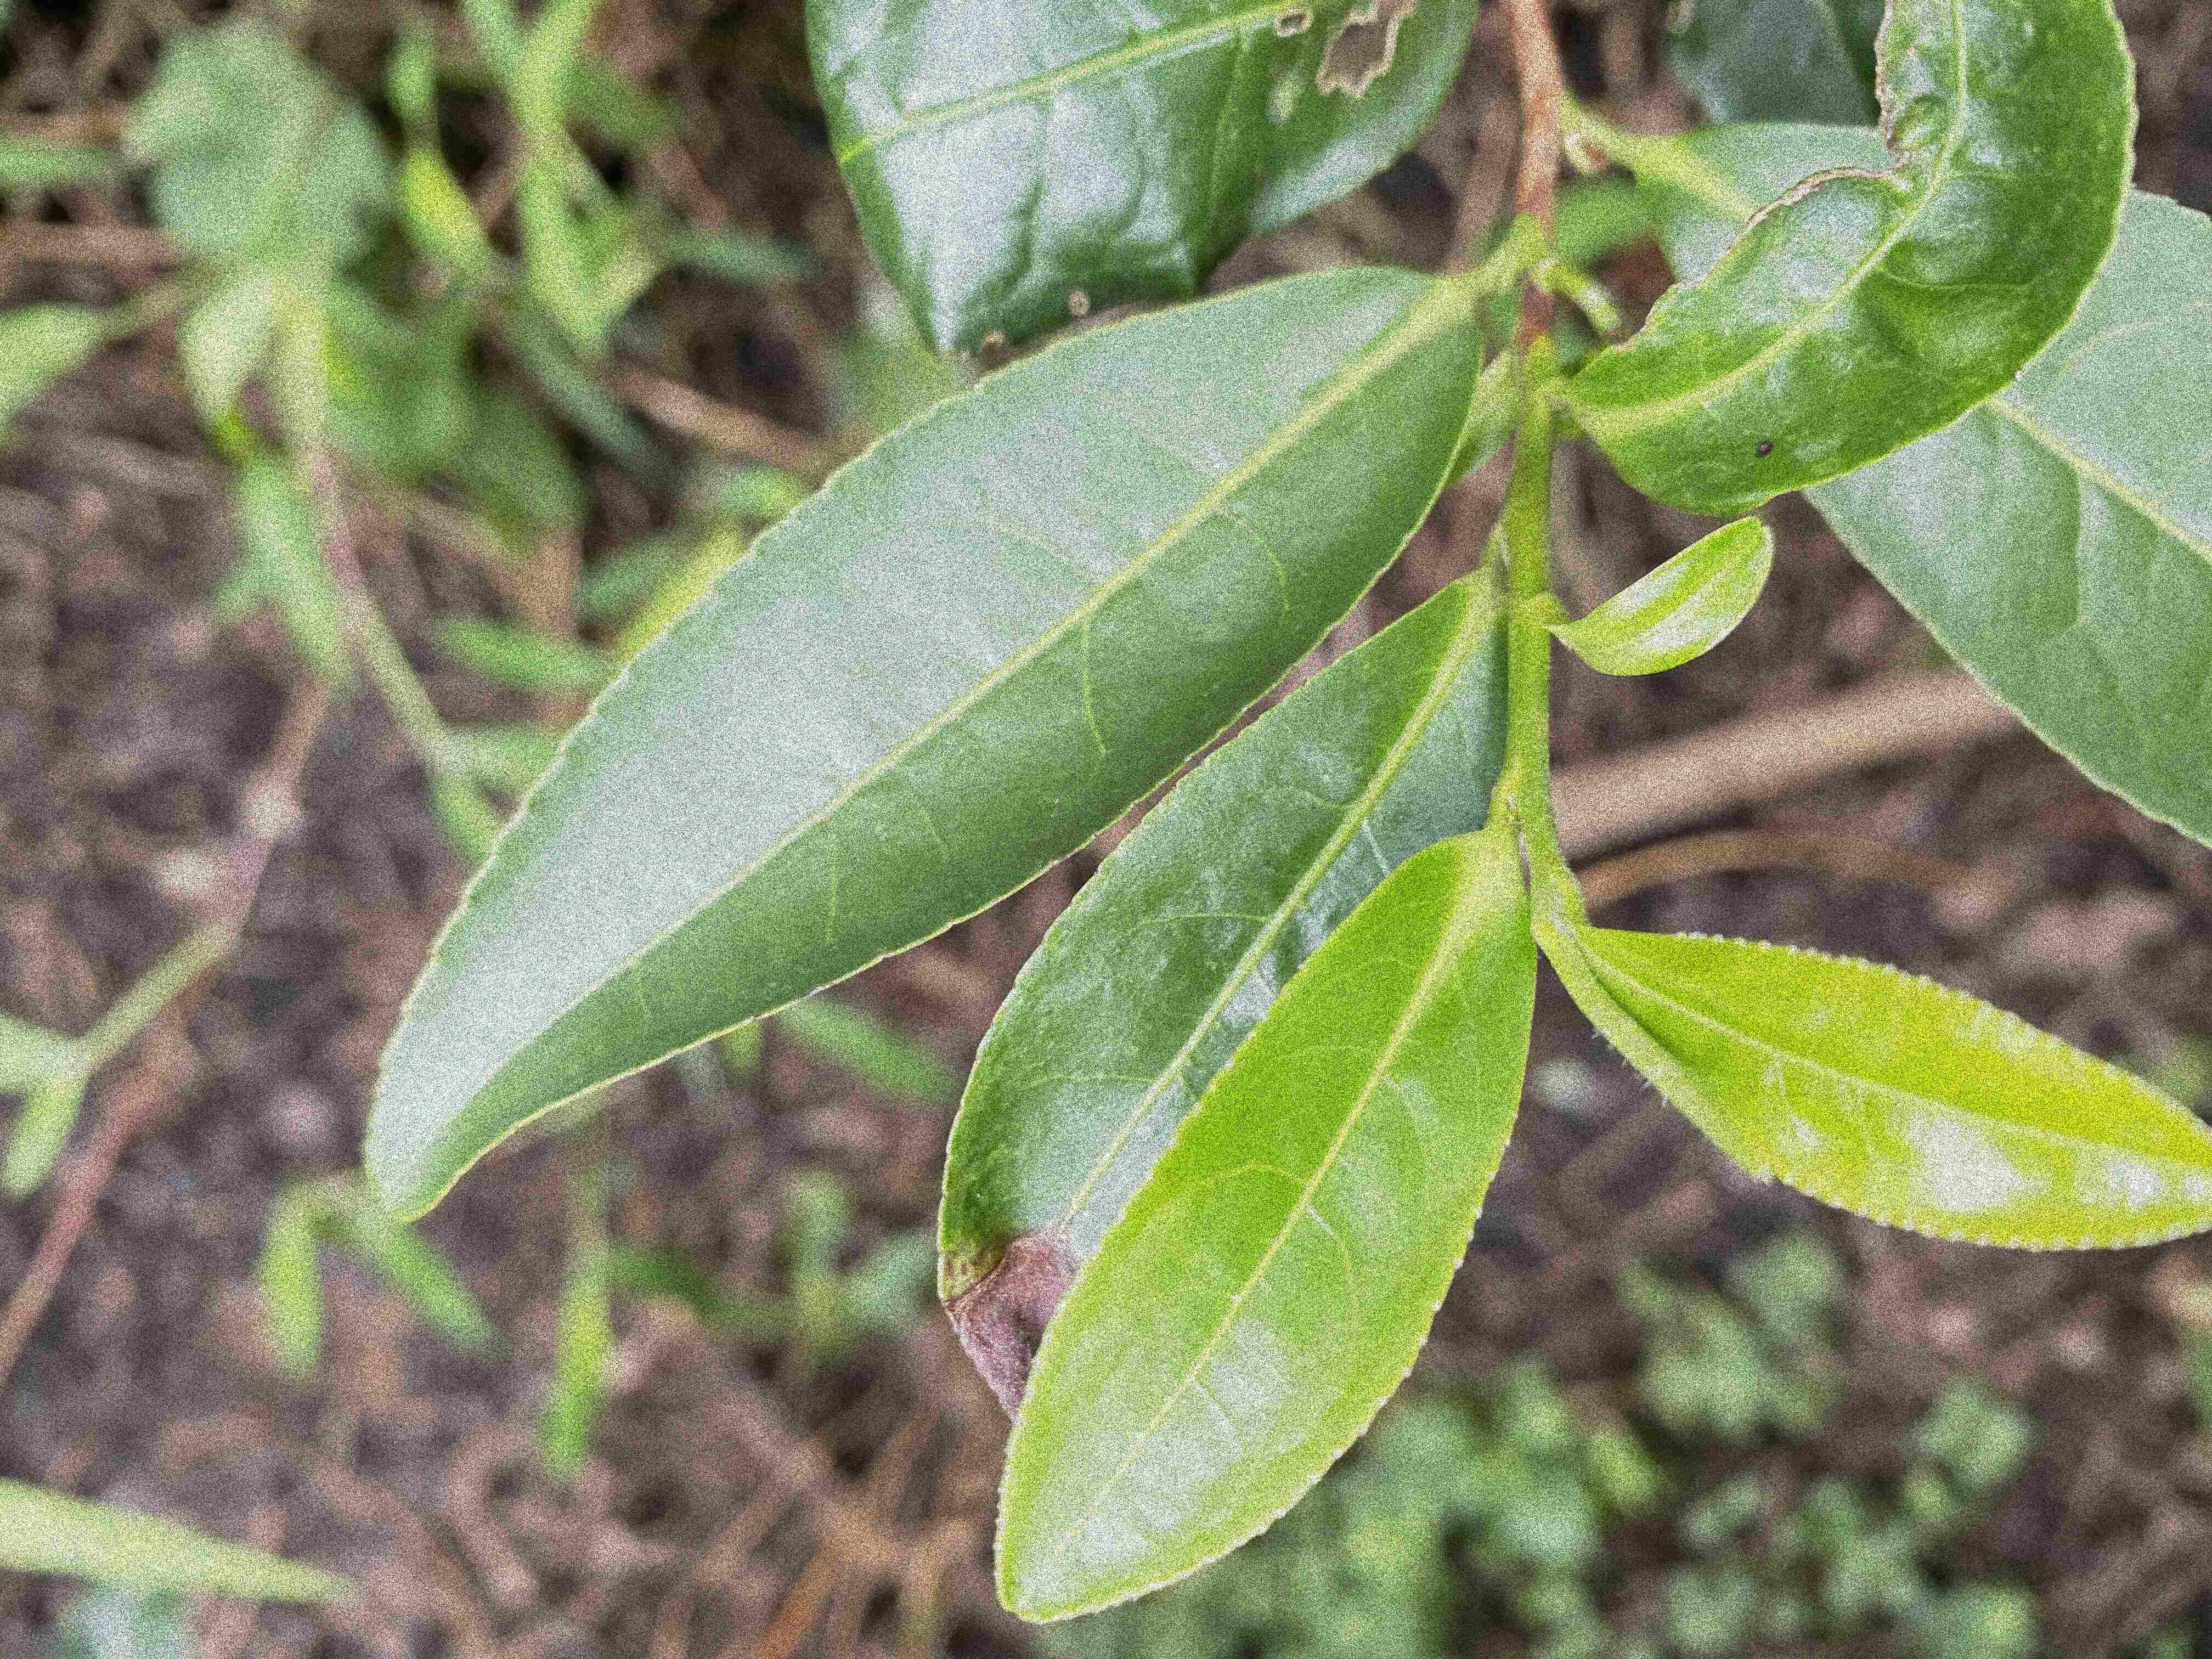chihuo_high: (1575, 5, 2142, 516), (794, 3, 1480, 361)
healthy: (362, 263, 1486, 1225), (995, 831, 1538, 1624), (1576, 920, 2210, 1253), (1547, 512, 1778, 683)
tanju_high: (934, 568, 1514, 1424)
